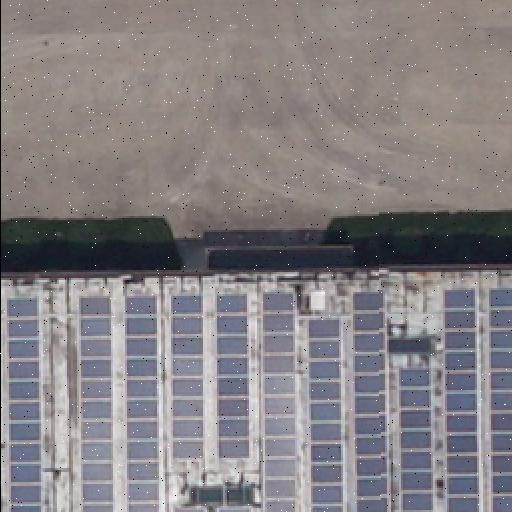solar-panel: (440, 288, 480, 512), (261, 288, 299, 512), (353, 288, 391, 512), (9, 294, 47, 512), (77, 294, 115, 512), (126, 294, 162, 512), (308, 313, 344, 511), (170, 288, 206, 460), (218, 287, 250, 457), (488, 288, 512, 512), (398, 368, 434, 512), (174, 504, 210, 512), (218, 504, 254, 512)
